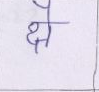ai_matra: (33, 0, 55, 21)
